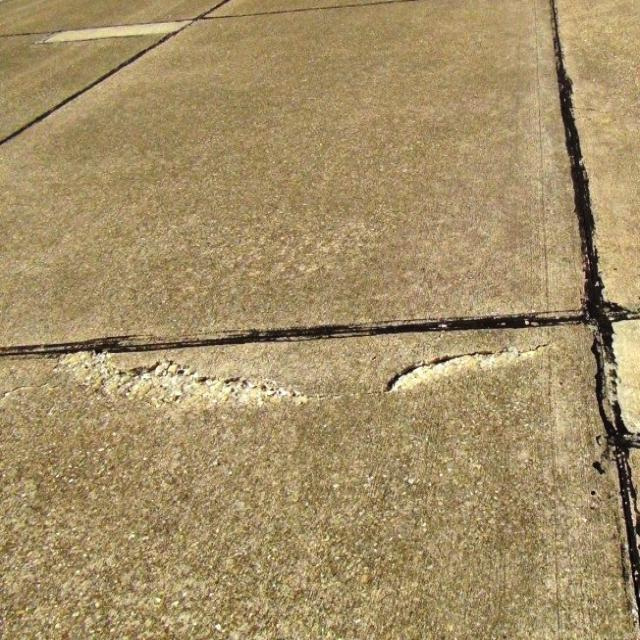Pothole: (0, 6, 637, 624)
